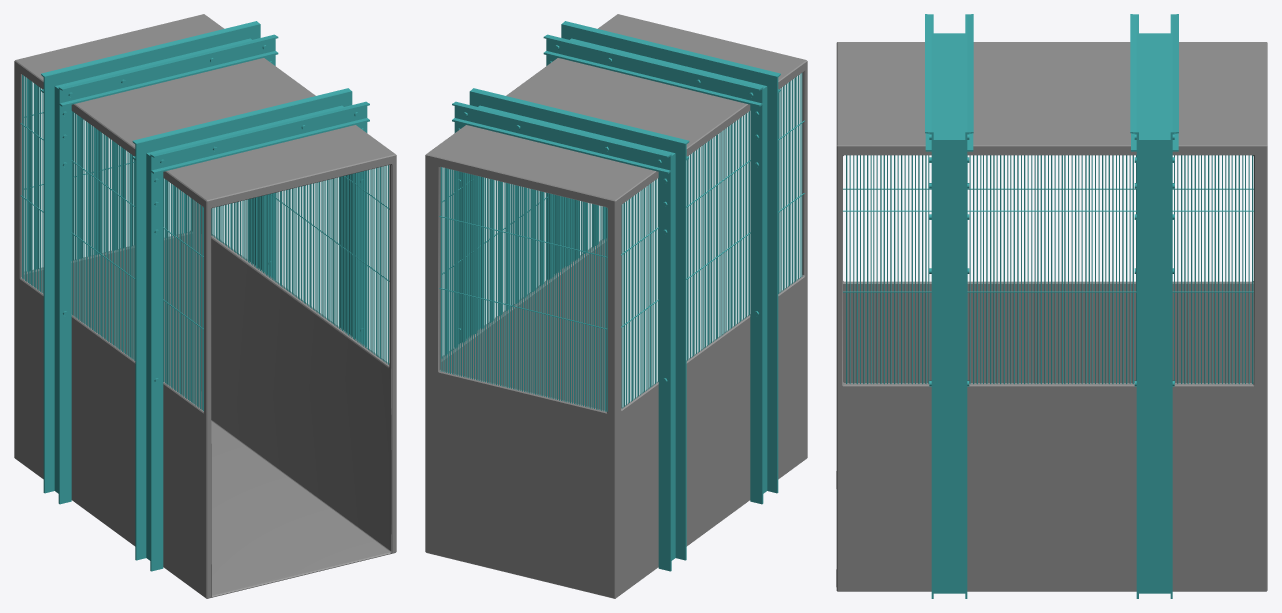
File: elevator.FBX
3 views of the same model, side by side, from view 1: azimuth 30°, elevation 25°; view 2: azimuth 150°, elevation 25°; view 3: azimuth 270°, elevation 25° (orthographic). The views are drawn at different scales.
Parts seen in each view (by area): view 1: Elevator, Bars, Beams, Beams001; view 2: Elevator, Bars, Beams001, Beams; view 3: Elevator, Bars, Beams, Beams001.
Boxes of the visible parts, x1,y1,x2,y2 form: Elevator: [14, 14, 396, 598]; Bars: [20, 74, 389, 411]; Beams: [132, 88, 369, 571]; Beams001: [41, 21, 278, 504]; Elevator: [425, 14, 807, 598]; Bars: [439, 73, 804, 411]; Beams001: [452, 88, 689, 571]; Beams: [543, 21, 780, 504]; Elevator: [836, 42, 1267, 591]; Bars: [843, 155, 1253, 384]; Beams: [925, 14, 973, 598]; Beams001: [1130, 14, 1178, 598].
Size of the model in its own units: 136 by 251 by 210.
